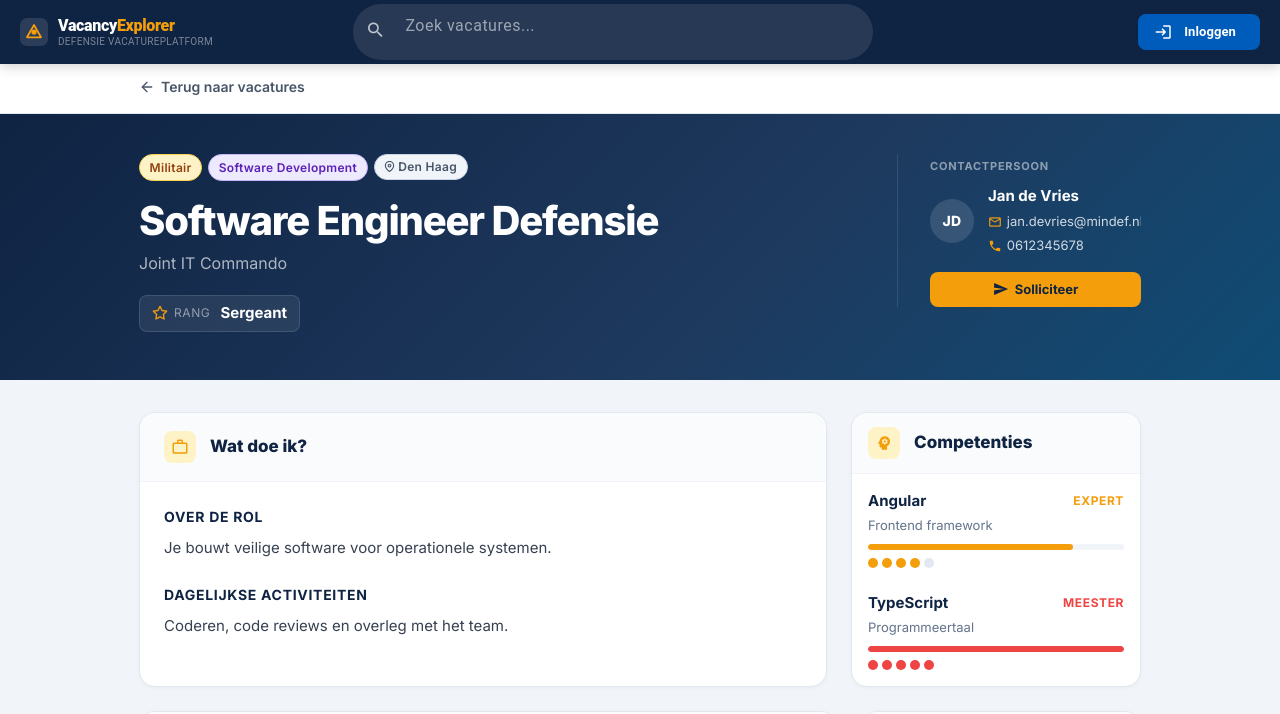
Test: Navigation & routing › returns to the overview via the brand logo
Click the link with test id "brand-link" at (117, 32), box [20,16,213,47]
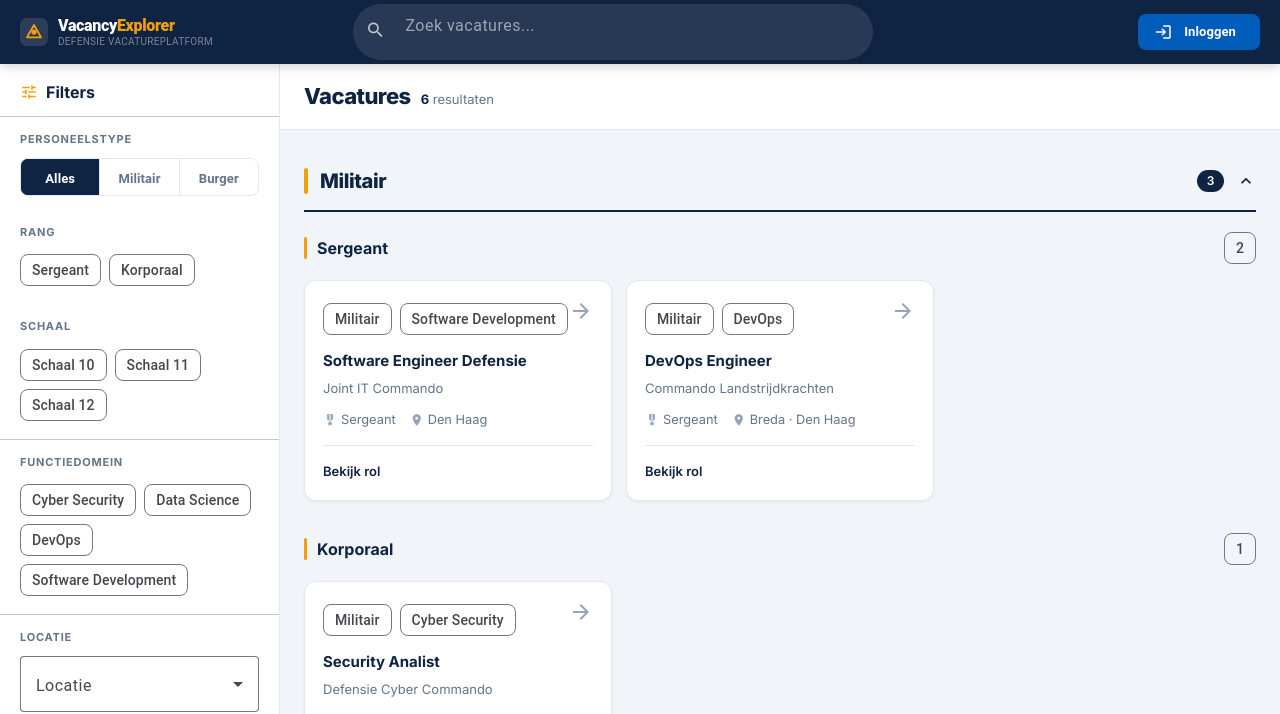
Now the element with test id "vacancy-card" that starts with "Militair" is shown, box [304,280,612,501]
